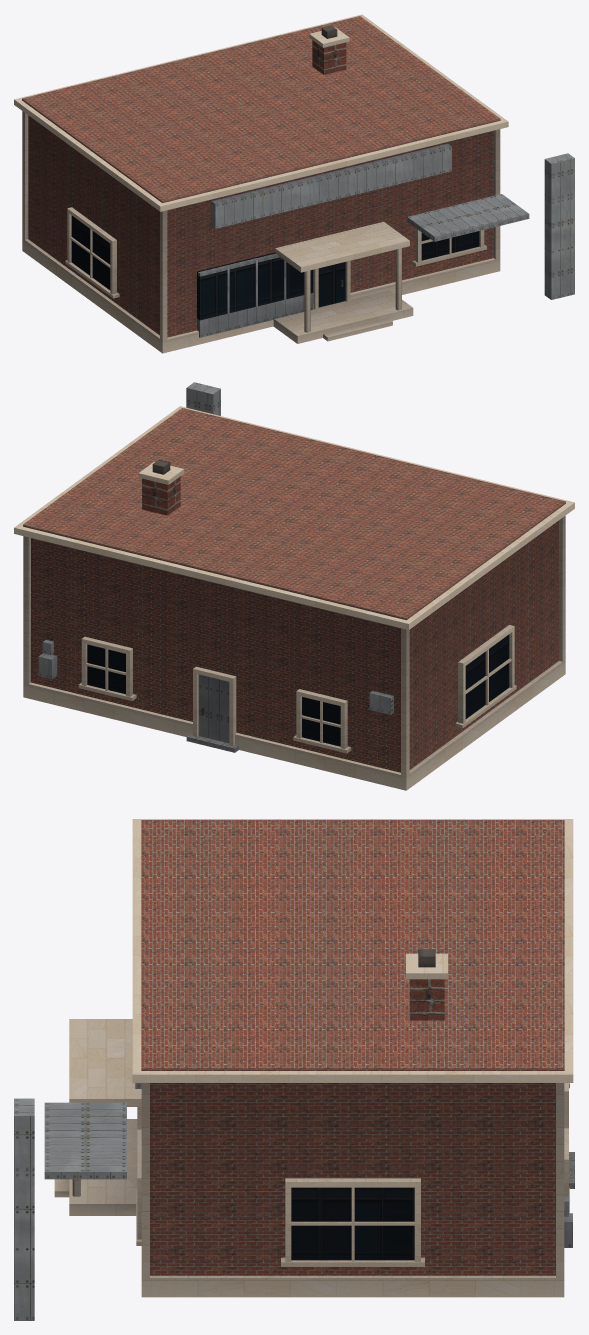
The model's file is ironport-pizza-kitchen_lod0.gltf.
3 renders of one model, top to bottom at view 1: azimuth 30°, elevation 25°; view 2: azimuth 150°, elevation 25°; view 3: azimuth 270°, elevation 25°, orthographic. The views are drawn at different scales.
Parts seen in each view (by area): view 1: ironport-pizza-kitchen__parapet, ironport-pizza-kitchen_main, ironport-pizza-kitchen__v4_stone_detail, ironport-pizza-kitchen_fen_07-glass-curtain-blue_1_t, ironport-pizza-kitchen__sign_band, ironport-pizza-kitchen__sign_pylon, ironport-pizza-kitchen__pickup_canopy, ironport-pizza-kitchen_fen_04-limestone_2, ironport-pizza-kitchen_fen_14-steel-panel_0, ironport-pizza-kitchen__v4_brick_detail; view 2: ironport-pizza-kitchen_main, ironport-pizza-kitchen__parapet, ironport-pizza-kitchen__v4_stone_detail, ironport-pizza-kitchen_fen_04-limestone_2, ironport-pizza-kitchen_fen_07-glass-curtain-blue_1_t, ironport-pizza-kitchen_fen_14-steel-panel_0, ironport-pizza-kitchen__v4_brick_detail, ironport-pizza-kitchen__sign_pylon; view 3: ironport-pizza-kitchen__parapet, ironport-pizza-kitchen_main, ironport-pizza-kitchen__v4_stone_detail, ironport-pizza-kitchen_fen_07-glass-curtain-blue_1_t, ironport-pizza-kitchen__pickup_canopy, ironport-pizza-kitchen_fen_04-limestone_2, ironport-pizza-kitchen__sign_pylon, ironport-pizza-kitchen__v4_brick_detail.
Part boxes in pixels (bbox=[...]): ironport-pizza-kitchen__parapet: bbox=[22, 16, 500, 202]; ironport-pizza-kitchen_main: bbox=[28, 115, 493, 337]; ironport-pizza-kitchen__v4_stone_detail: bbox=[14, 14, 508, 353]; ironport-pizza-kitchen_fen_07-glass-curtain-blue_1_t: bbox=[71, 215, 479, 320]; ironport-pizza-kitchen__sign_band: bbox=[211, 143, 451, 228]; ironport-pizza-kitchen__sign_pylon: bbox=[544, 153, 574, 299]; ironport-pizza-kitchen__pickup_canopy: bbox=[407, 194, 529, 241]; ironport-pizza-kitchen_fen_04-limestone_2: bbox=[65, 207, 486, 309]; ironport-pizza-kitchen_fen_14-steel-panel_0: bbox=[197, 253, 313, 337]; ironport-pizza-kitchen__v4_brick_detail: bbox=[312, 40, 346, 74]; ironport-pizza-kitchen_main: bbox=[31, 520, 558, 772]; ironport-pizza-kitchen__parapet: bbox=[23, 408, 565, 620]; ironport-pizza-kitchen__v4_stone_detail: bbox=[14, 406, 574, 790]; ironport-pizza-kitchen_fen_04-limestone_2: bbox=[78, 625, 516, 753]; ironport-pizza-kitchen_fen_07-glass-curtain-blue_1_t: bbox=[87, 634, 509, 746]; ironport-pizza-kitchen_fen_14-steel-panel_0: bbox=[38, 640, 393, 743]; ironport-pizza-kitchen__v4_brick_detail: bbox=[142, 476, 180, 515]; ironport-pizza-kitchen__sign_pylon: bbox=[186, 382, 220, 415]; ironport-pizza-kitchen__parapet: bbox=[141, 820, 564, 1070]; ironport-pizza-kitchen_main: bbox=[150, 1083, 555, 1275]; ironport-pizza-kitchen__v4_stone_detail: bbox=[54, 819, 573, 1297]; ironport-pizza-kitchen_fen_07-glass-curtain-blue_1_t: bbox=[291, 1187, 414, 1260]; ironport-pizza-kitchen__pickup_canopy: bbox=[44, 1102, 126, 1179]; ironport-pizza-kitchen_fen_04-limestone_2: bbox=[136, 1083, 569, 1266]; ironport-pizza-kitchen__sign_pylon: bbox=[14, 1098, 34, 1320]; ironport-pizza-kitchen__v4_brick_detail: bbox=[409, 979, 444, 1020].
Size of the model in its own units: 15.86 by 7.74 by 13.65.
